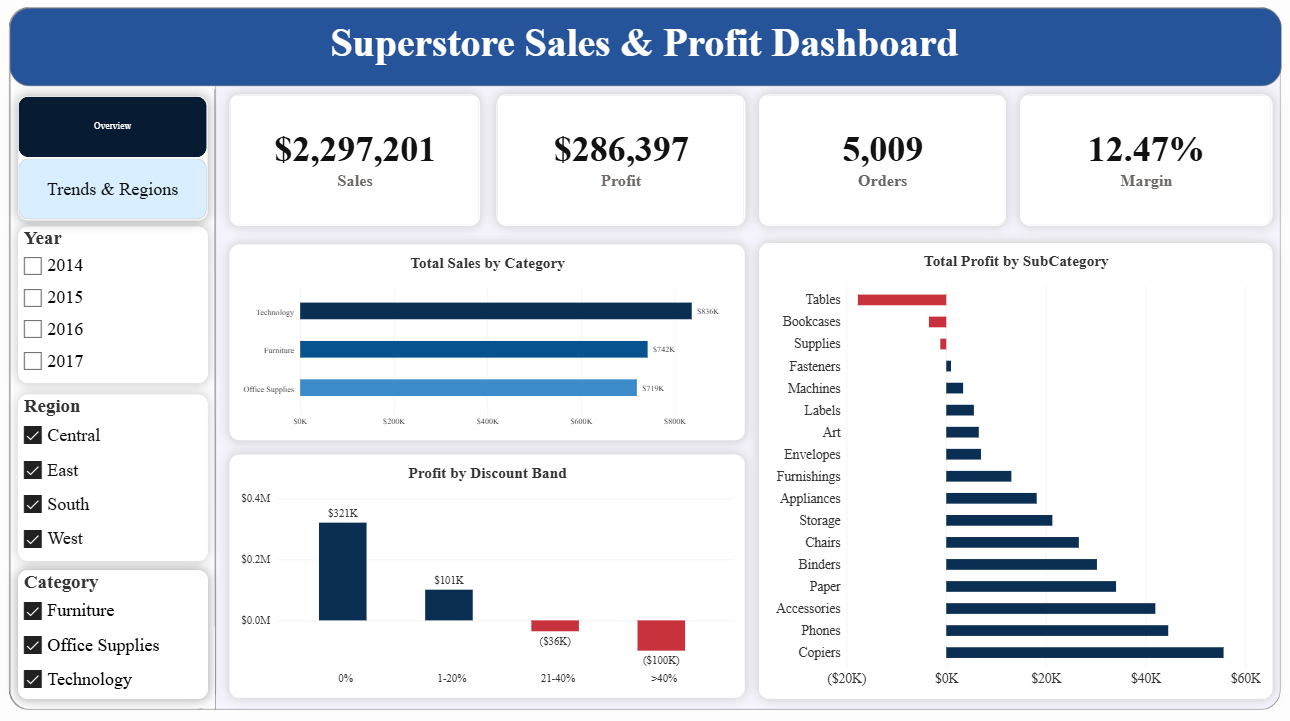

This screenshot's page, from the dashboard's own definition file:
{"tool":"powerbi","page":{"name":"Overview","canvas":[1920,1080],"ordinal":0},"visuals":[{"type":"textbox","box":[322.2,33.3,1274,74],"z":0},{"type":"cardVisual","fields":{"Data":["Sales.Total Sales"]},"box":[344.7,144.7,371.1,194.7],"z":1000},{"type":"cardVisual","fields":{"Data":["Sales.Total Profit"]},"box":[739.5,144.7,368.4,194.7],"z":2000},{"type":"cardVisual","fields":{"Data":["Sales.Total Orders"]},"box":[1128.9,144.7,365.8,194.7],"z":3000},{"type":"cardVisual","fields":{"Data":["Sales.Profit Margin"]},"box":[1515.8,144.7,373.7,194.7],"z":4000},{"type":"clusteredBarChart","fields":{"Category":["Sales.Category"],"Y":["Sales.Total Sales"]},"box":[343.9,365.9,763.4,290.2],"z":5000},{"type":"clusteredBarChart","fields":{"Category":["Sales.SubCategory"],"Y":["Sales.Total Profit"]},"box":[1129.3,363.4,761,675.6],"z":6000},{"type":"slicer","fields":{"Values":["Sales.Category"]},"box":[30,847.8,281.1,191.1],"z":7000},{"type":"slicer","fields":{"Values":["DimDate.Year"]},"box":[30,338.9,281.1,232.2],"z":8000},{"type":"slicer","fields":{"Values":["Sales.Region"]},"box":[30,588.9,281.1,246.7],"z":9000},{"type":"pageNavigator","box":[30,145.6,281.1,184.4],"z":10000},{"type":"clusteredColumnChart","title":"Profit by Discount Band","fields":{"Category":["Sales.Discount Band"],"Y":["Sales.Total Profit"]},"box":[343.9,678,763.4,361],"z":11000}]}

Visuals, with their boxes in screenshot pixels (x1, y1, x2, y2), scaled from the page's 1920x1080 canvas onto the 1290x721 screenshot:
textbox: locate(216, 22, 1072, 72)
cardVisual - Sales.Total Sales: locate(232, 97, 481, 227)
cardVisual - Sales.Total Profit: locate(497, 97, 744, 227)
cardVisual - Sales.Total Orders: locate(758, 97, 1004, 227)
cardVisual - Sales.Profit Margin: locate(1018, 97, 1270, 227)
clusteredBarChart - Sales.Category x Sales.Total Sales: locate(231, 244, 744, 438)
clusteredBarChart - Sales.SubCategory x Sales.Total Profit: locate(759, 243, 1270, 694)
slicer - Sales.Category: locate(20, 566, 209, 694)
slicer - DimDate.Year: locate(20, 226, 209, 381)
slicer - Sales.Region: locate(20, 393, 209, 558)
pageNavigator: locate(20, 97, 209, 220)
"Profit by Discount Band" clusteredColumnChart: locate(231, 453, 744, 694)
